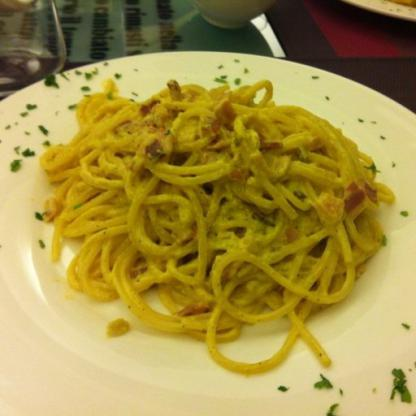pasta: (40, 82, 378, 372)
